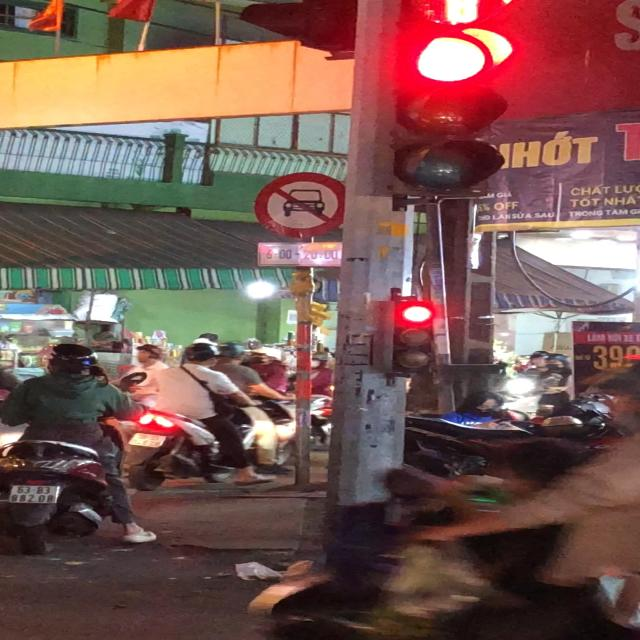Bien bao cam xe oto: (250, 170, 347, 244)
